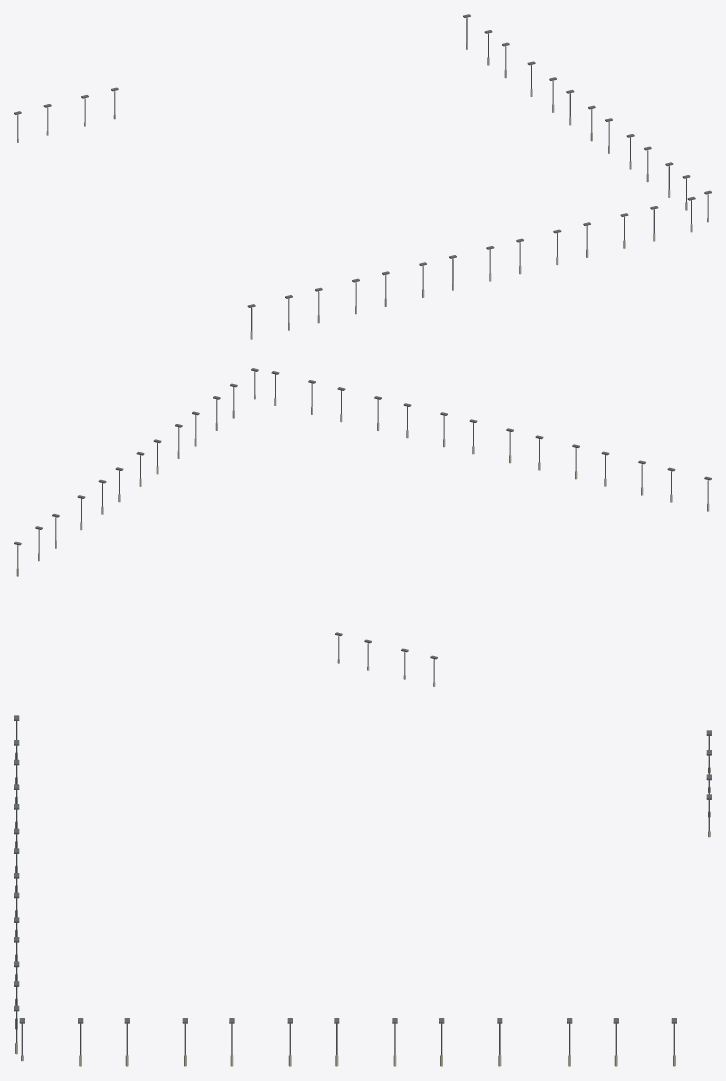
The picture shows the model from 3 angles, top to bottom: view 1: azimuth 30°, elevation 25°; view 2: azimuth 150°, elevation 25°; view 3: azimuth 270°, elevation 25°; orthographic projection. The views are drawn at different scales.
Visible parts, largest first — view 1: buildings_s_-9_3_Dark_Metal, buildings_s_-9_3_Warm_Limestone; view 2: buildings_s_-9_3_Dark_Metal, buildings_s_-9_3_Warm_Limestone; view 3: buildings_s_-9_3_Dark_Metal, buildings_s_-9_3_Warm_Limestone.
Part boxes in pixels (x1,y1,x2,y2): buildings_s_-9_3_Dark_Metal: [14, 14, 711, 331]; buildings_s_-9_3_Warm_Limestone: [17, 41, 708, 339]; buildings_s_-9_3_Dark_Metal: [14, 368, 711, 682]; buildings_s_-9_3_Warm_Limestone: [16, 394, 709, 686]; buildings_s_-9_3_Dark_Metal: [14, 715, 711, 1055]; buildings_s_-9_3_Warm_Limestone: [15, 752, 710, 1066].
Bounding box in the file's own units: 125 × 8.68 × 120.
